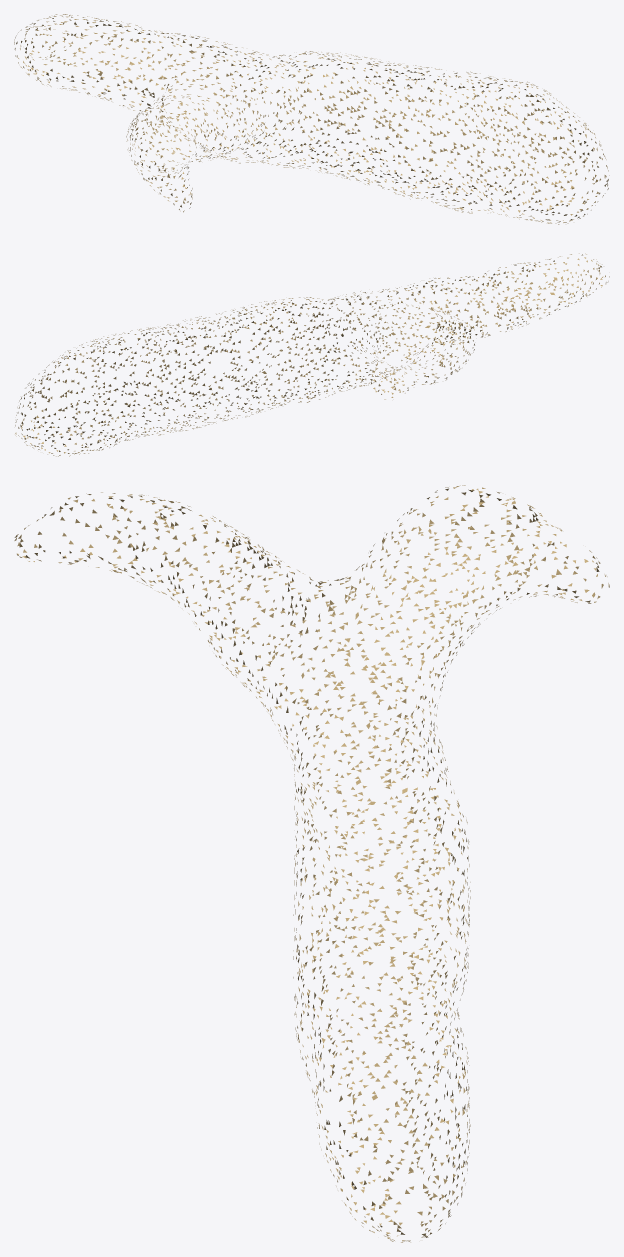
Rendered from morph_007.glb.
The picture shows the model from 3 angles, top to bottom: view 1: azimuth 30°, elevation 25°; view 2: azimuth 150°, elevation 25°; view 3: azimuth 270°, elevation 25°; orthographic projection. The views are drawn at different scales.
Size of the model in its own units: 125 by 61.21 by 80.69.
